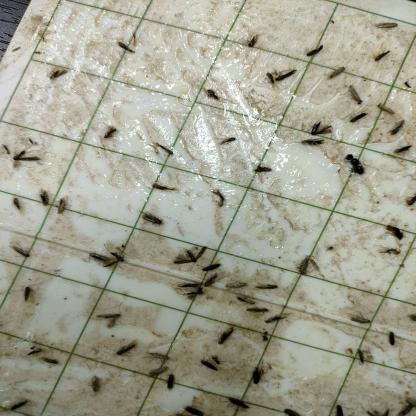prays_oleae: (136, 199, 167, 238), (88, 242, 127, 271), (92, 301, 127, 328), (212, 319, 242, 348), (8, 237, 36, 268), (250, 363, 276, 396), (12, 144, 41, 172), (171, 242, 208, 263), (344, 308, 376, 331), (382, 212, 404, 244), (294, 255, 320, 282), (223, 388, 252, 412), (387, 113, 408, 146), (150, 131, 173, 161), (346, 152, 368, 183), (272, 61, 300, 85), (115, 35, 141, 59), (41, 347, 63, 375), (310, 111, 335, 135), (375, 16, 402, 38), (19, 280, 37, 311), (254, 272, 277, 296), (199, 353, 219, 380), (7, 388, 29, 412), (33, 186, 51, 215), (114, 338, 142, 356), (147, 344, 172, 364), (243, 26, 262, 52), (196, 88, 223, 106), (23, 338, 43, 362), (88, 373, 106, 399), (103, 122, 120, 148), (218, 131, 239, 152), (207, 187, 228, 208), (307, 37, 326, 60), (347, 84, 365, 108), (201, 258, 226, 275), (386, 326, 402, 352), (376, 95, 394, 118), (226, 272, 249, 290), (202, 272, 219, 296), (321, 64, 345, 80), (144, 364, 168, 380), (52, 198, 71, 217), (47, 64, 68, 80), (356, 343, 367, 371), (182, 402, 206, 414), (282, 403, 304, 415), (333, 402, 346, 415)
